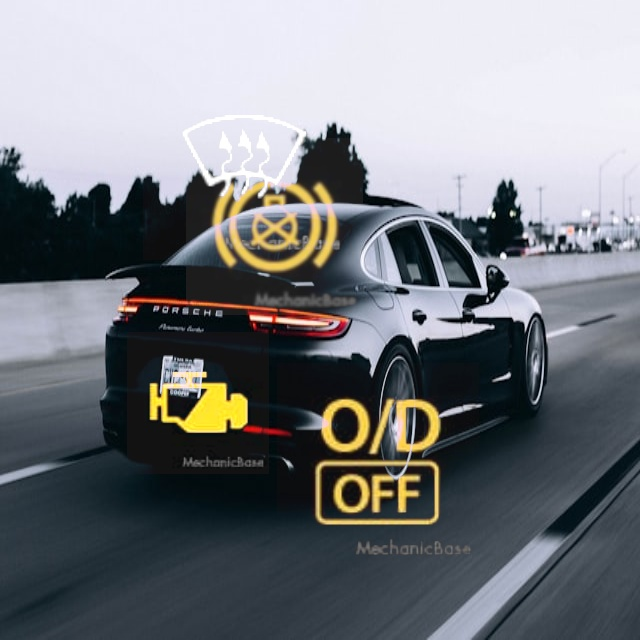symbol: (143, 55, 348, 260), (277, 363, 479, 565), (186, 138, 363, 315), (127, 332, 269, 474)
